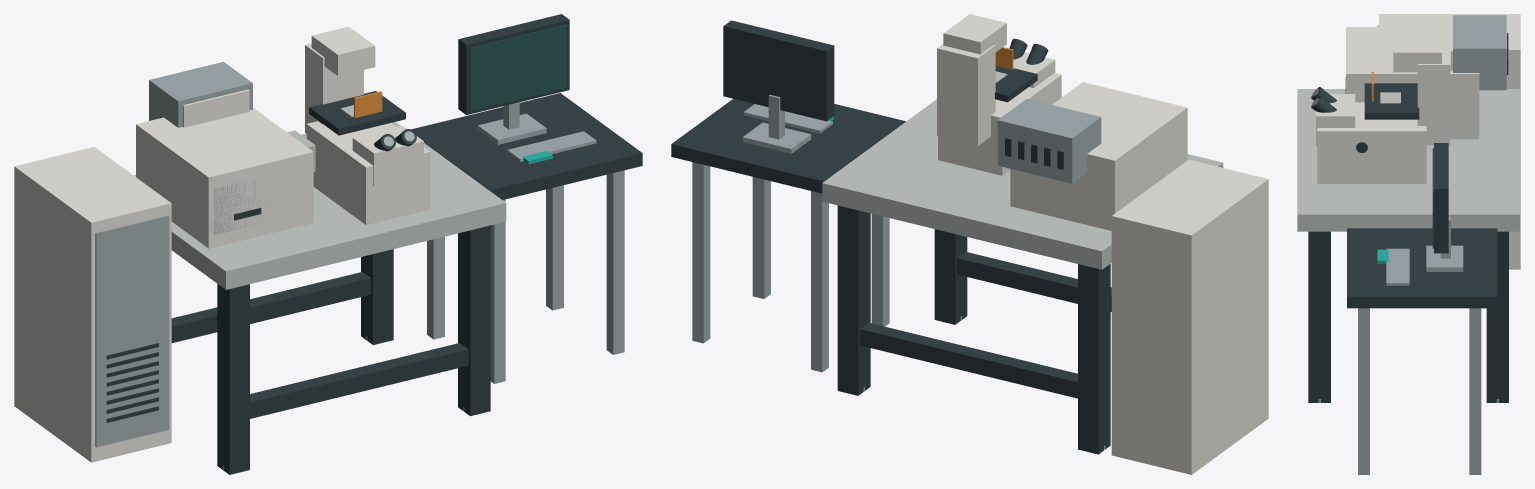
File: lsm980-static.glb
The picture shows the model from 3 angles, left to right: view 1: azimuth 30°, elevation 25°; view 2: azimuth 150°, elevation 25°; view 3: azimuth 270°, elevation 25°; orthographic projection. The views are drawn at different scales.
Visible parts, largest first — view 1: external_inactive_module, lsm_scan_head_external, large_active_tabletop, module_plain_front, generic_monitor_desk, observer_inverted_lower, display_glass, table_leg, table_leg.002, table_rail, table_rail.001, airyscan_2_external (+14 smaller); view 2: external_inactive_module, large_active_tabletop, lsm_scan_head_external, generic_monitor_desk, generic_display, airyscan_2_external, table_leg.001, table_leg.003, table_rail.001, observer_support_column, desk_leg.003, desk_leg.001 (+11 smaller); view 3: large_active_tabletop, generic_monitor_desk, observer_inverted_lower, lsm_scan_head_external, table_leg.002, airyscan_2_external, table_leg.003, external_inactive_module, observer_support_column, desk_leg.003, desk_leg.002, stage_plate (+6 smaller).
Boxes of the visible parts, <box> form: external_inactive_module: <box>14,147,171,462</box>; lsm_scan_head_external: <box>136,108,313,248</box>; large_active_tabletop: <box>134,122,506,289</box>; module_plain_front: <box>95,215,169,447</box>; generic_monitor_desk: <box>411,93,642,199</box>; observer_inverted_lower: <box>306,121,430,224</box>; display_glass: <box>470,24,566,111</box>; table_leg: <box>217,284,249,474</box>; table_leg.002: <box>458,225,490,416</box>; table_rail: <box>250,343,468,418</box>; table_rail.001: <box>171,272,371,342</box>; airyscan_2_external: <box>149,61,252,127</box>; external_inactive_module: <box>1111,159,1268,474</box>; large_active_tabletop: <box>822,99,1223,269</box>; lsm_scan_head_external: <box>1010,82,1187,230</box>; generic_monitor_desk: <box>671,98,905,193</box>; generic_display: <box>723,20,834,121</box>; airyscan_2_external: <box>997,99,1101,183</box>; table_leg.001: <box>1078,264,1110,454</box>; table_leg.003: <box>837,205,870,395</box>; table_rail.001: <box>860,323,1077,398</box>; observer_support_column: <box>937,44,995,145</box>; desk_leg.003: <box>692,162,710,343</box>; desk_leg.001: <box>811,191,828,372</box>; large_active_tabletop: <box>1297,89,1519,231</box>; generic_monitor_desk: <box>1347,228,1497,308</box>; observer_inverted_lower: <box>1317,102,1426,183</box>; lsm_scan_head_external: <box>1346,27,1479,139</box>; table_leg.002: <box>1308,231,1330,402</box>; airyscan_2_external: <box>1453,15,1506,90</box>; table_leg.003: <box>1486,231,1508,402</box>; external_inactive_module: <box>1379,14,1520,269</box>; observer_support_column: <box>1417,46,1450,145</box>; desk_leg.003: <box>1469,308,1481,474</box>; desk_leg.002: <box>1358,308,1369,474</box>; stage_plate: <box>1364,83,1419,119</box>.
Bounding box in the file's own units: 2.28 × 1.42 × 0.902.
